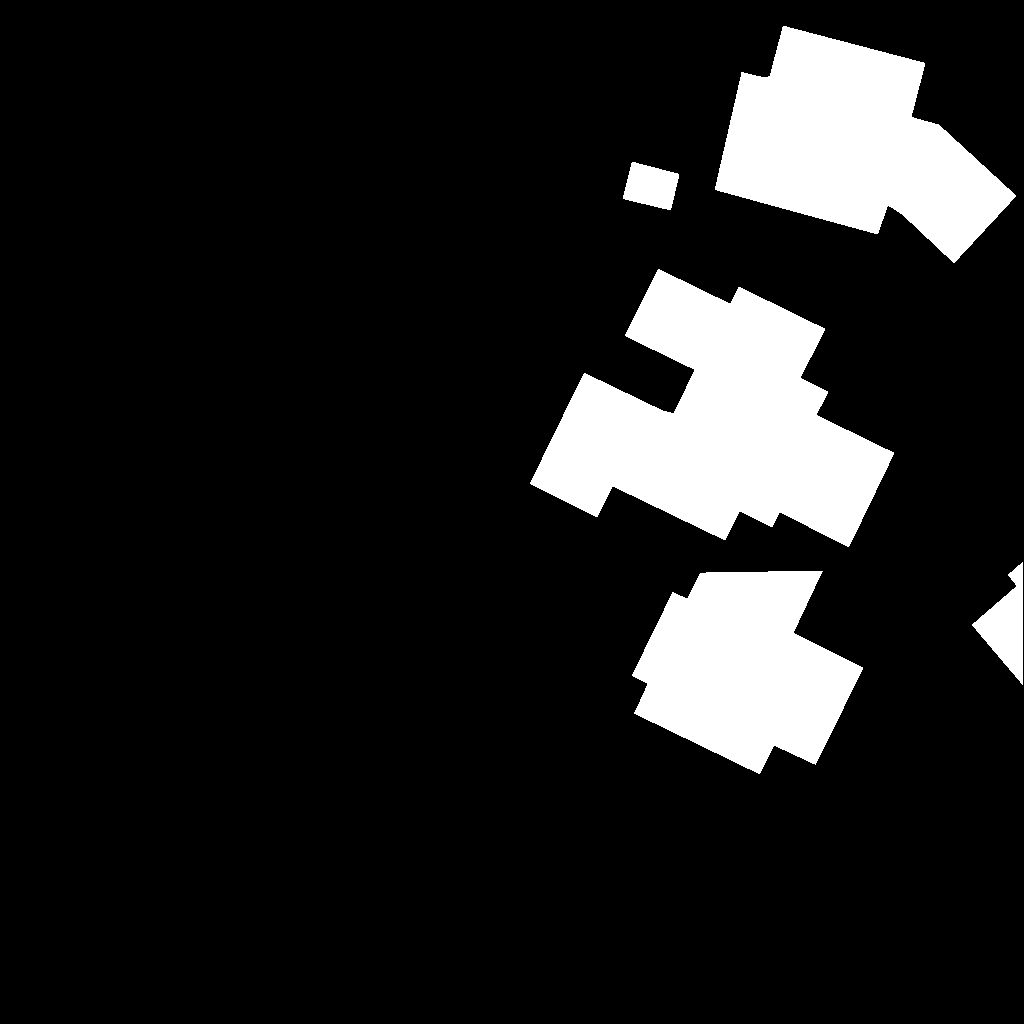building: (530, 269, 895, 548), (715, 26, 1017, 264), (632, 571, 864, 775), (972, 562, 1024, 686), (623, 162, 680, 211)
